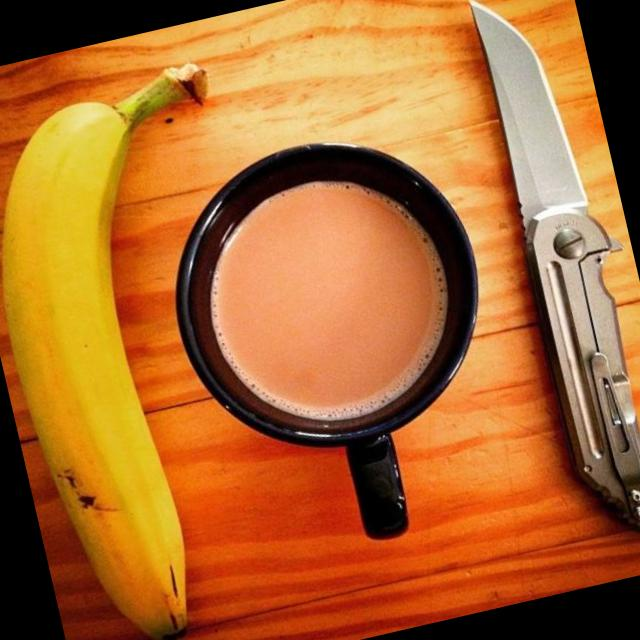Knife: (470, 1, 640, 529)
